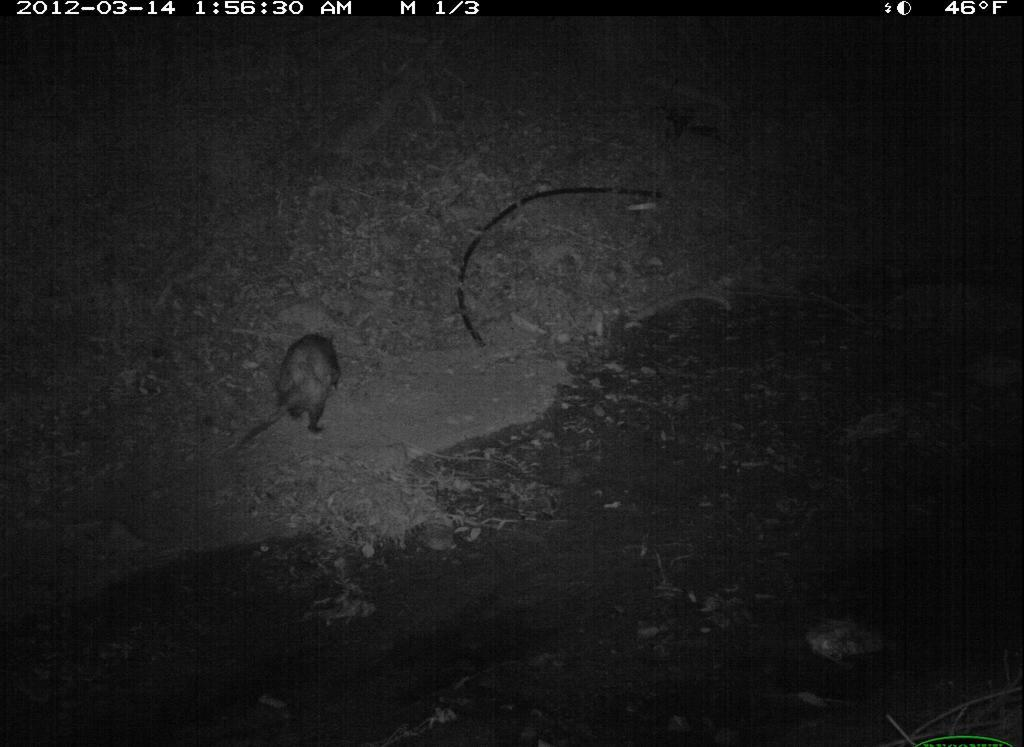opossum: (225, 319, 351, 469)
